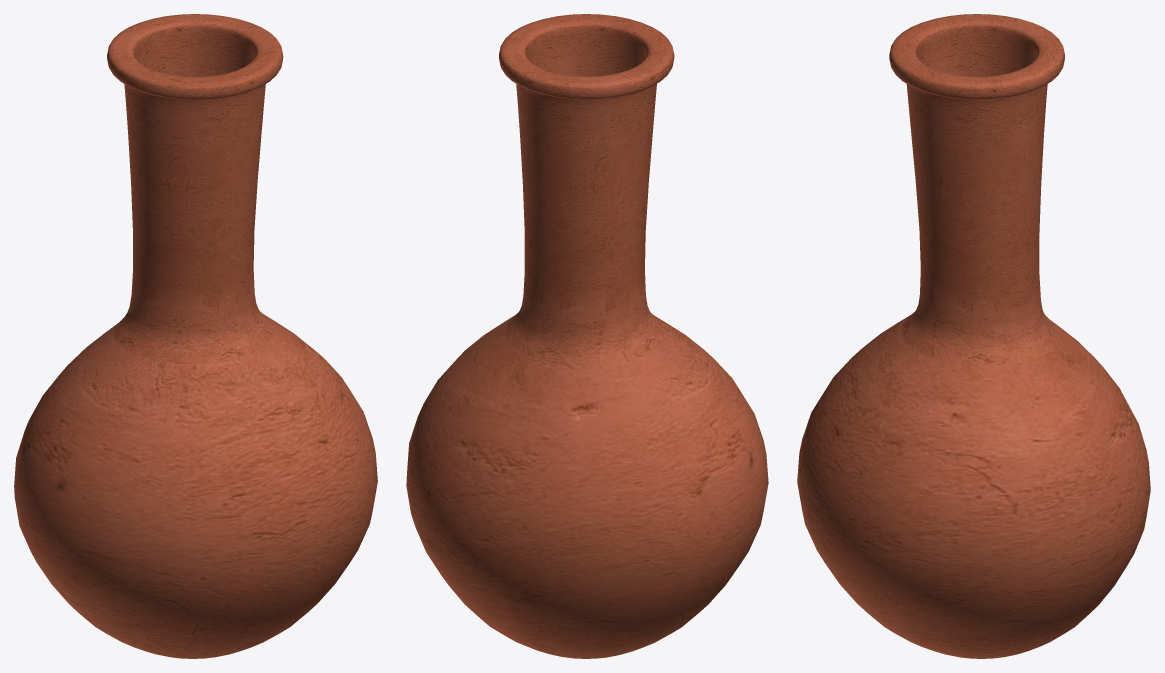
The model's file is Caraffa.fbx.
3 views of the same model, side by side, from view 1: azimuth 30°, elevation 25°; view 2: azimuth 150°, elevation 25°; view 3: azimuth 270°, elevation 25° (orthographic).
Visible parts, largest first — view 1: Caraffa; view 2: Caraffa; view 3: Caraffa.
Part boxes in pixels (<box>): Caraffa: <box>14,14,377,658</box>; Caraffa: <box>406,14,768,658</box>; Caraffa: <box>797,14,1150,658</box>.
Size of the model in its own units: 726 by 1278 by 699.
